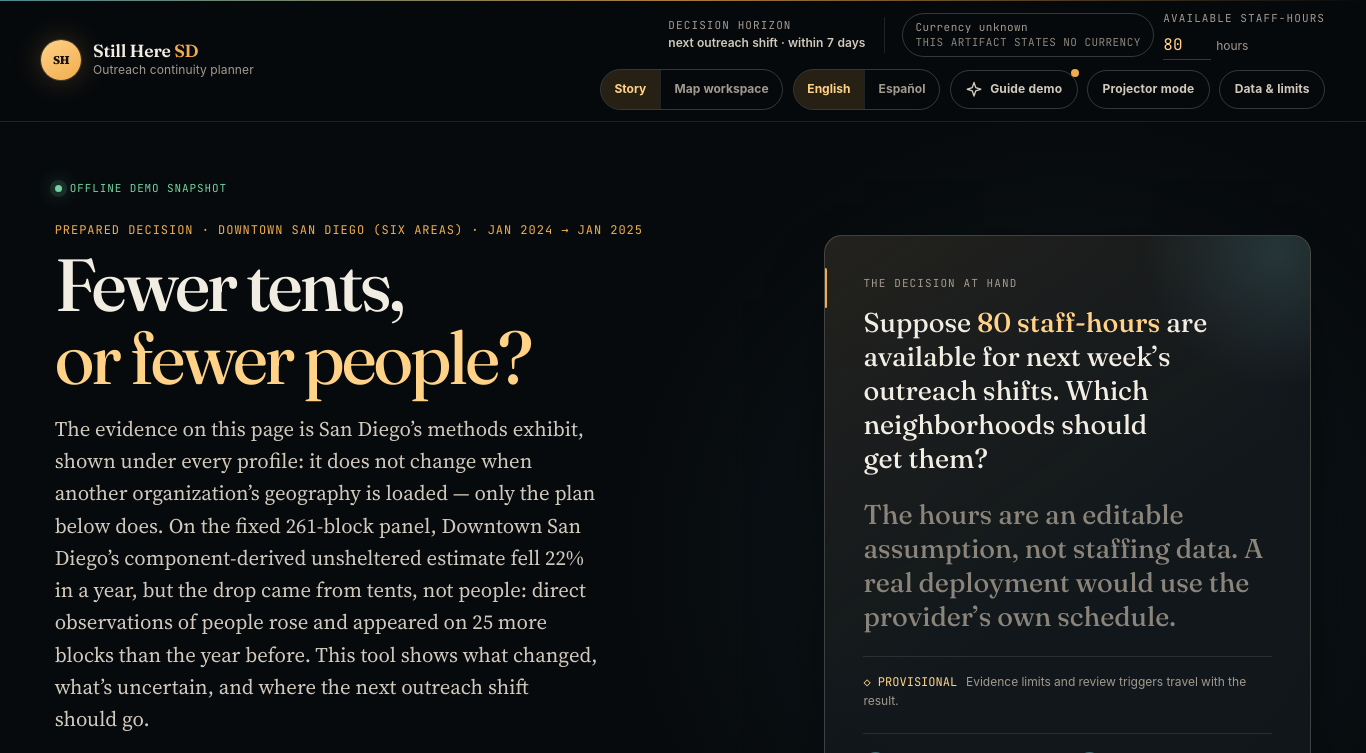
guided onboarding › asks for the real control, detects completion, and advances on its own
This screenshot has width=1366, height=753.
Check: the text "Offline demo snapshot" is shown, box 55,180 -> 227,197
Click the button "Guide demo". click: (1014, 90)
box: 950,70 -> 1078,109
(page scrolled)
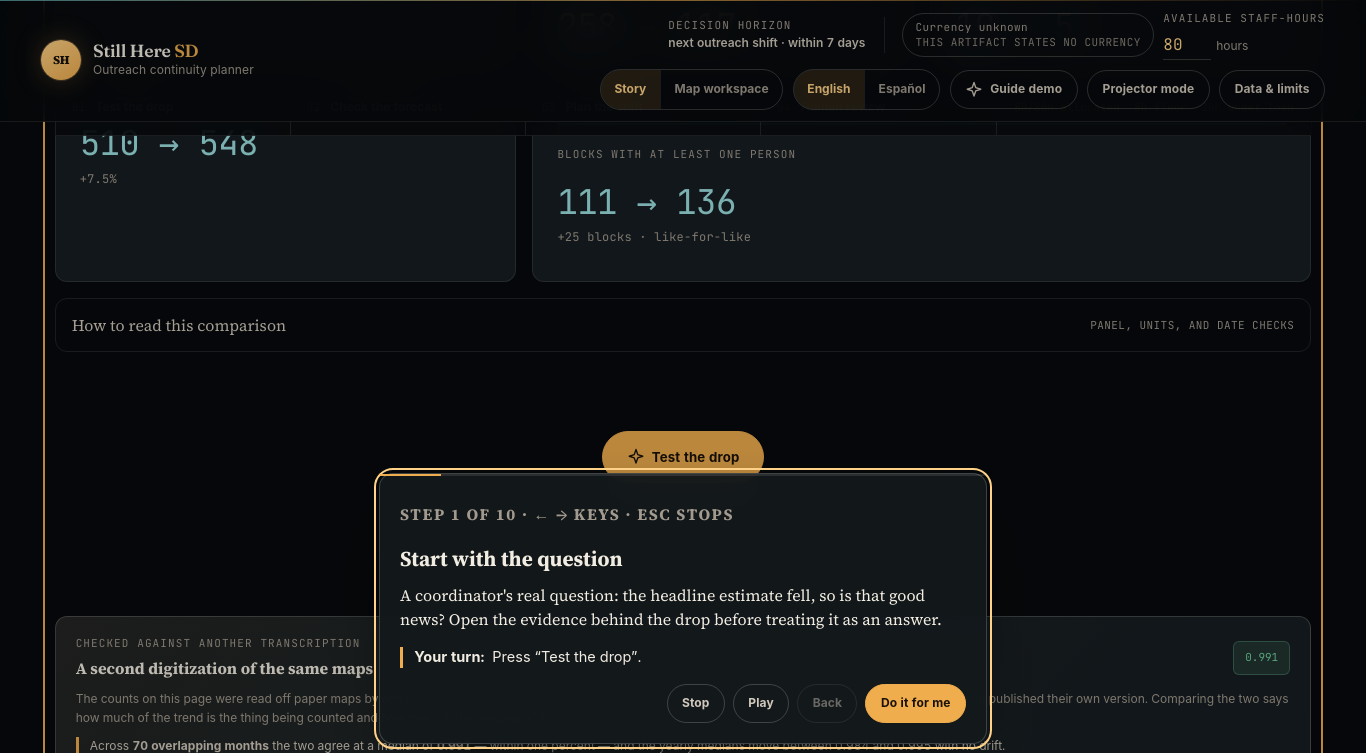
Check: the text "Step 1 of 10 · ← → keys · Esc stops" is shown, box 400,503 -> 734,525
Check: the dialog shows "Your turn:", box 414,648 -> 484,666
Check: the dialog shows "Test the drop", box 492,648 -> 641,666
Click the button "Test the drop". click: (683, 457)
box: 602,431 -> 764,483
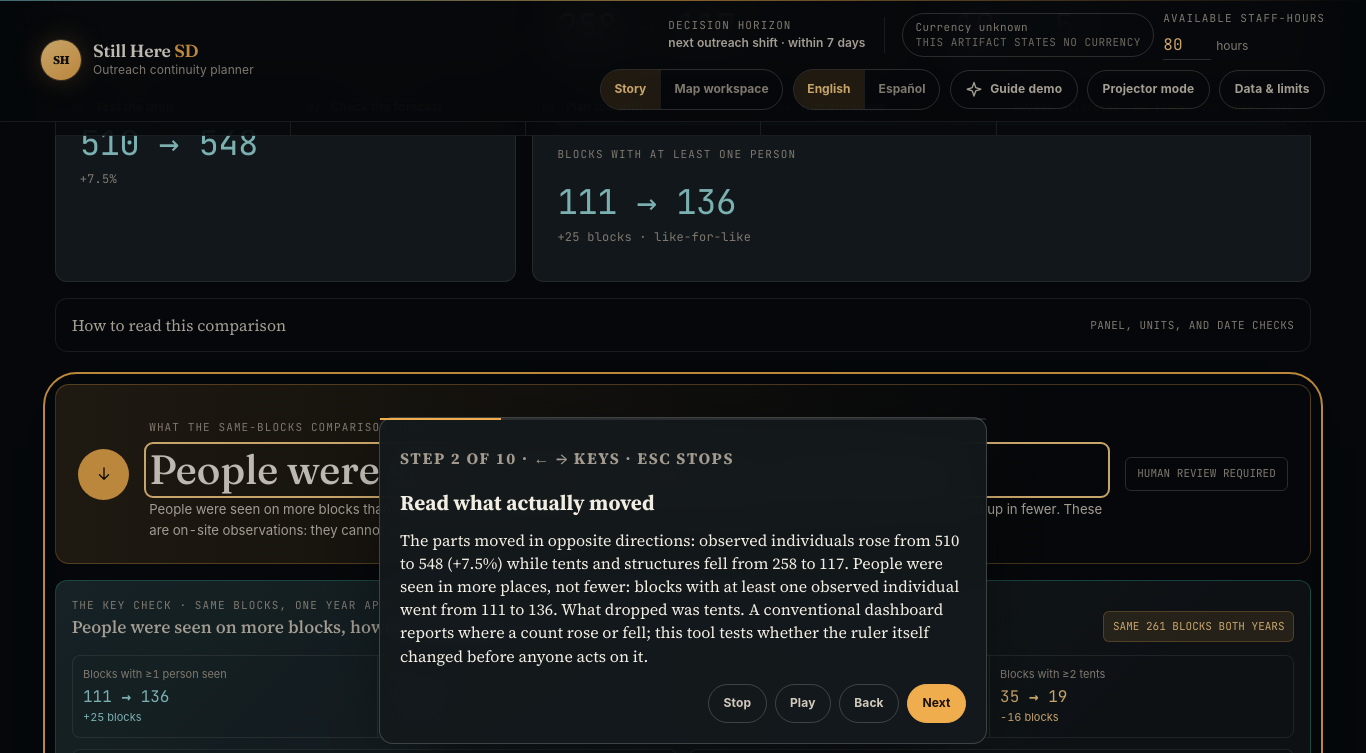
Check: the dialog shows "Read what actually moved", box 400,488 -> 654,517
Check: the dialog shows "510", box 400,529 -> 959,667
Check: the dialog shows "548", box 400,529 -> 959,667
